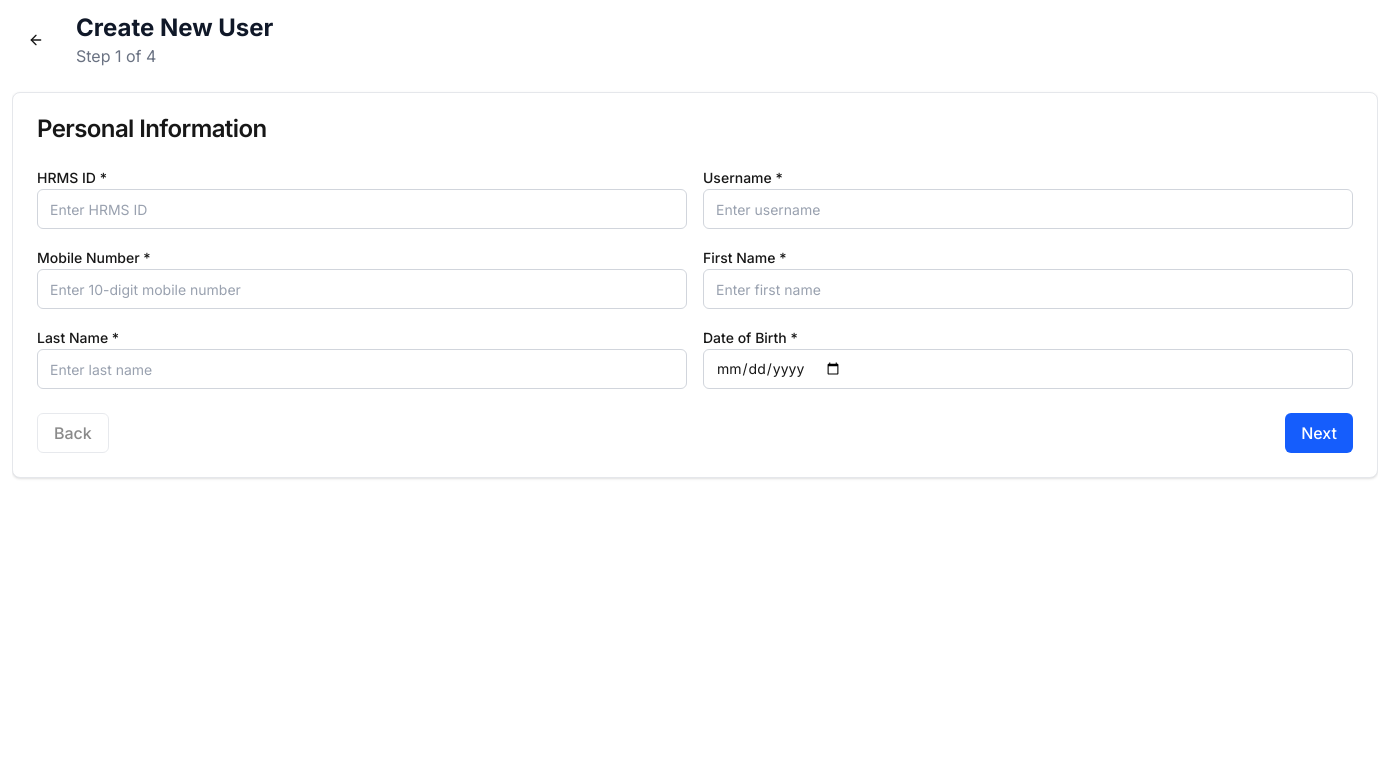
User creation form › shows inline error for invalid mobile number
Type "123456" into the field labelled "HRMS ID *" at (362, 209), box [37,189,687,229]
Type "john.doe" into the field labelled "Username *" at (1028, 209), box [703,189,1353,229]
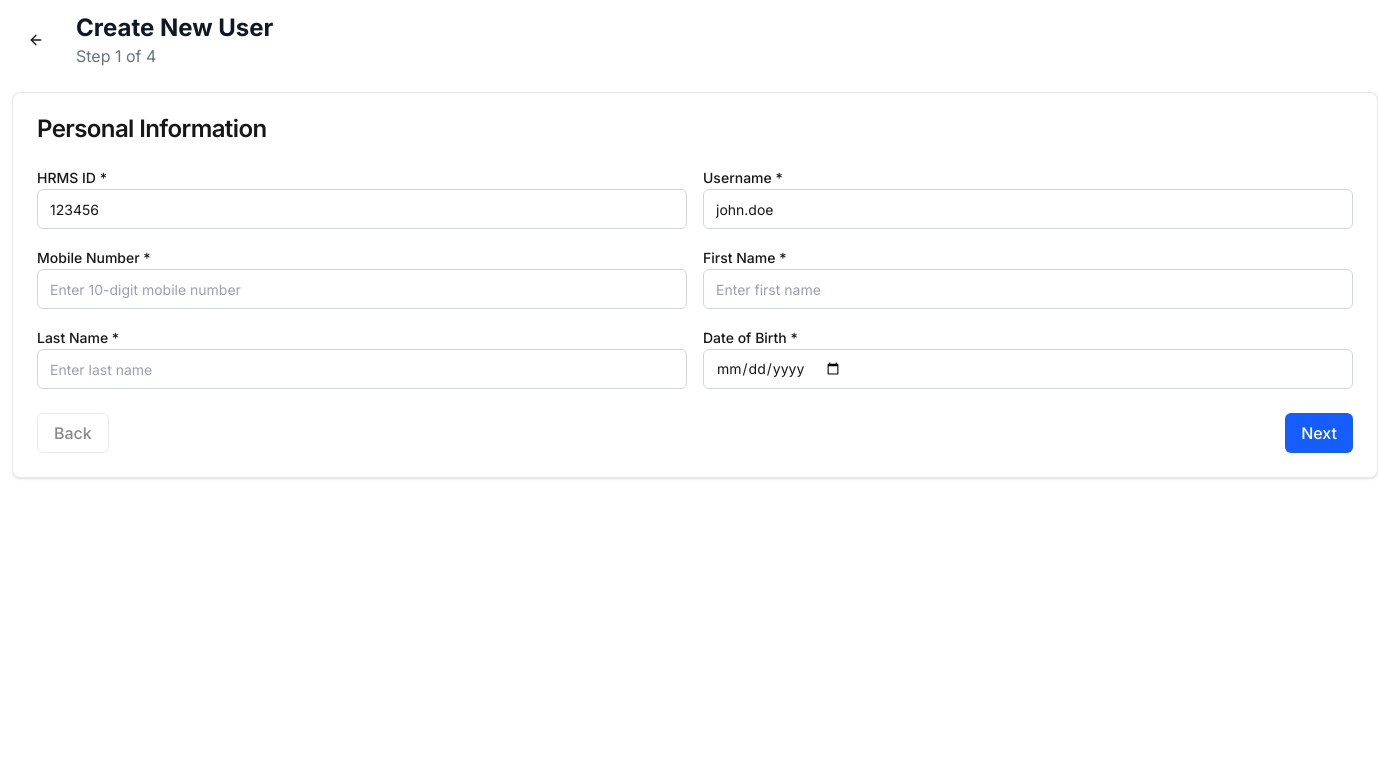
Type "987465860" into the field labelled "Mobile Number *" at (362, 289), box [37,269,687,309]
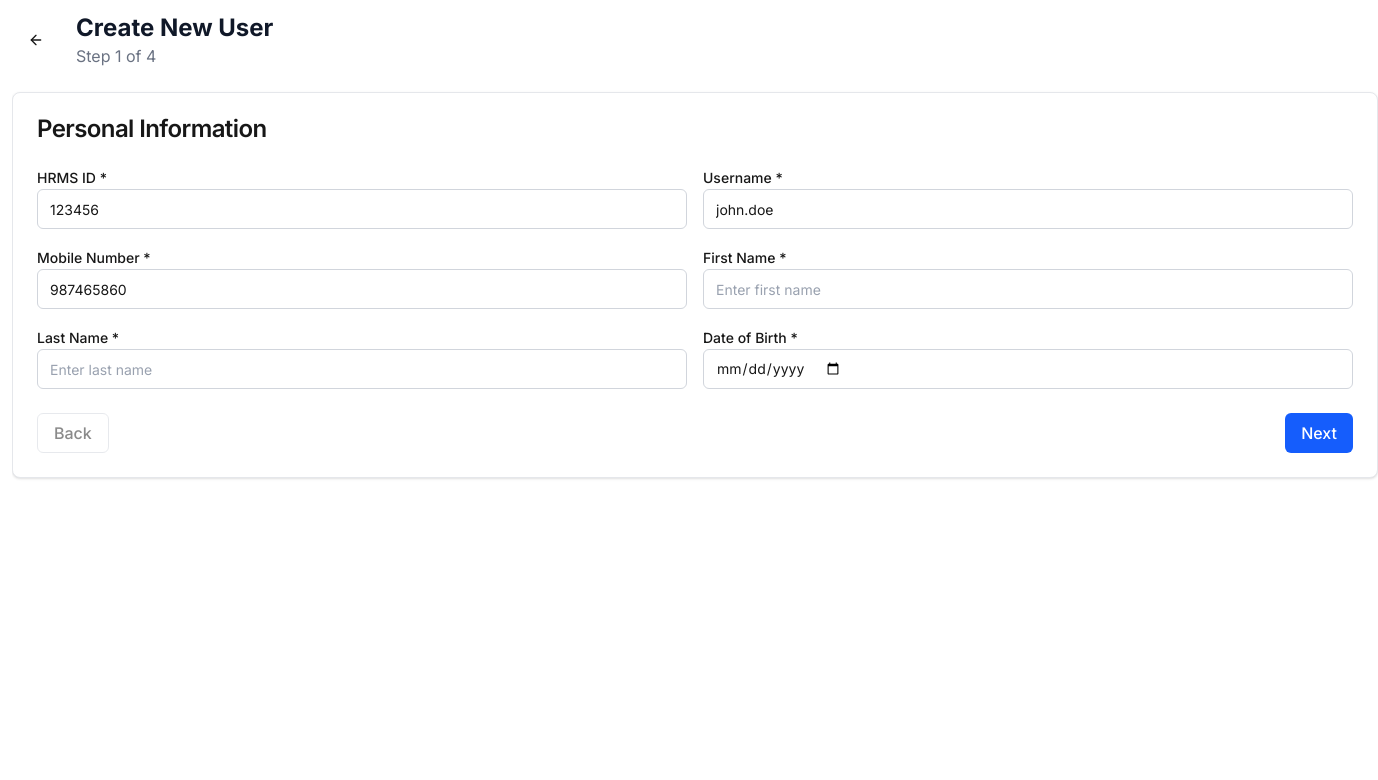
Type "John" into the field labelled "First Name *" at (1028, 289), box [703,269,1353,309]
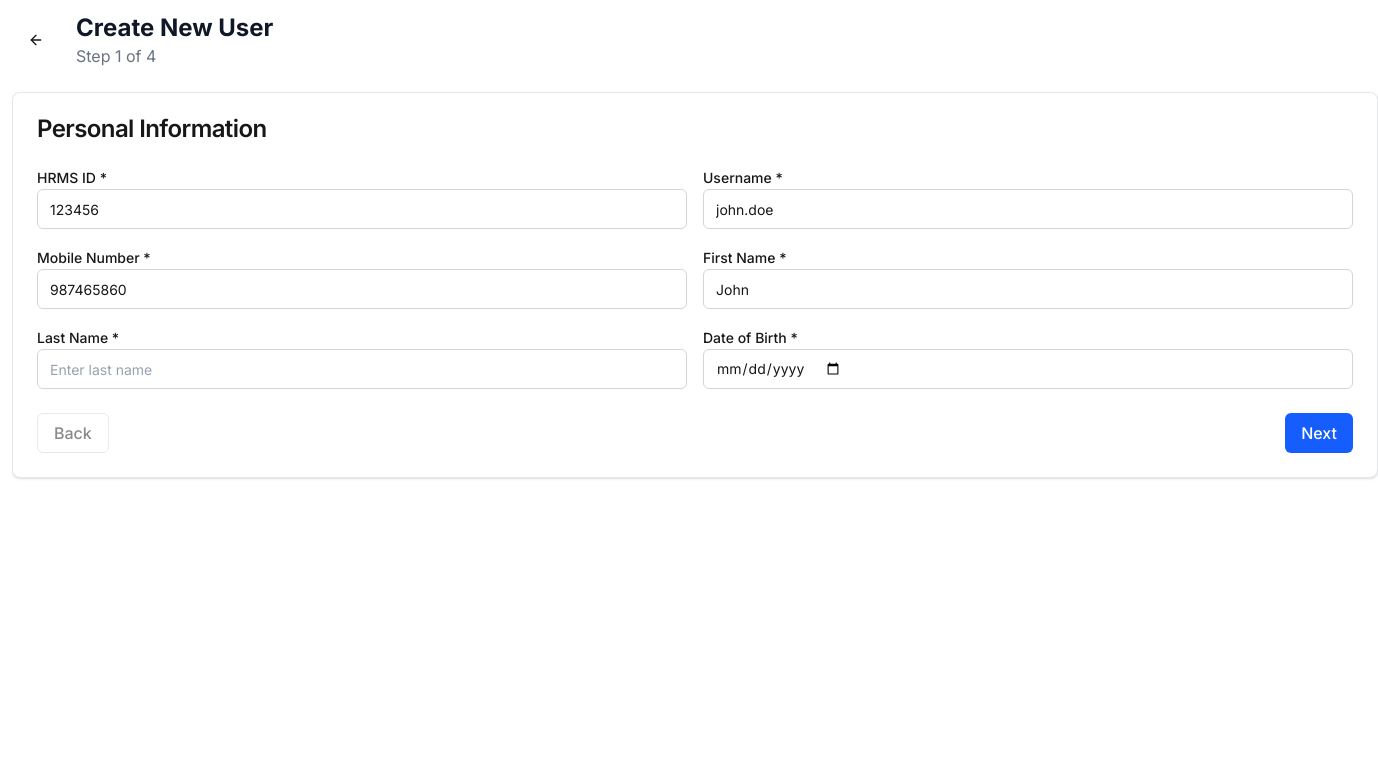
Type "Doe" into the field labelled "Last Name *" at (362, 369), box [37,349,687,389]
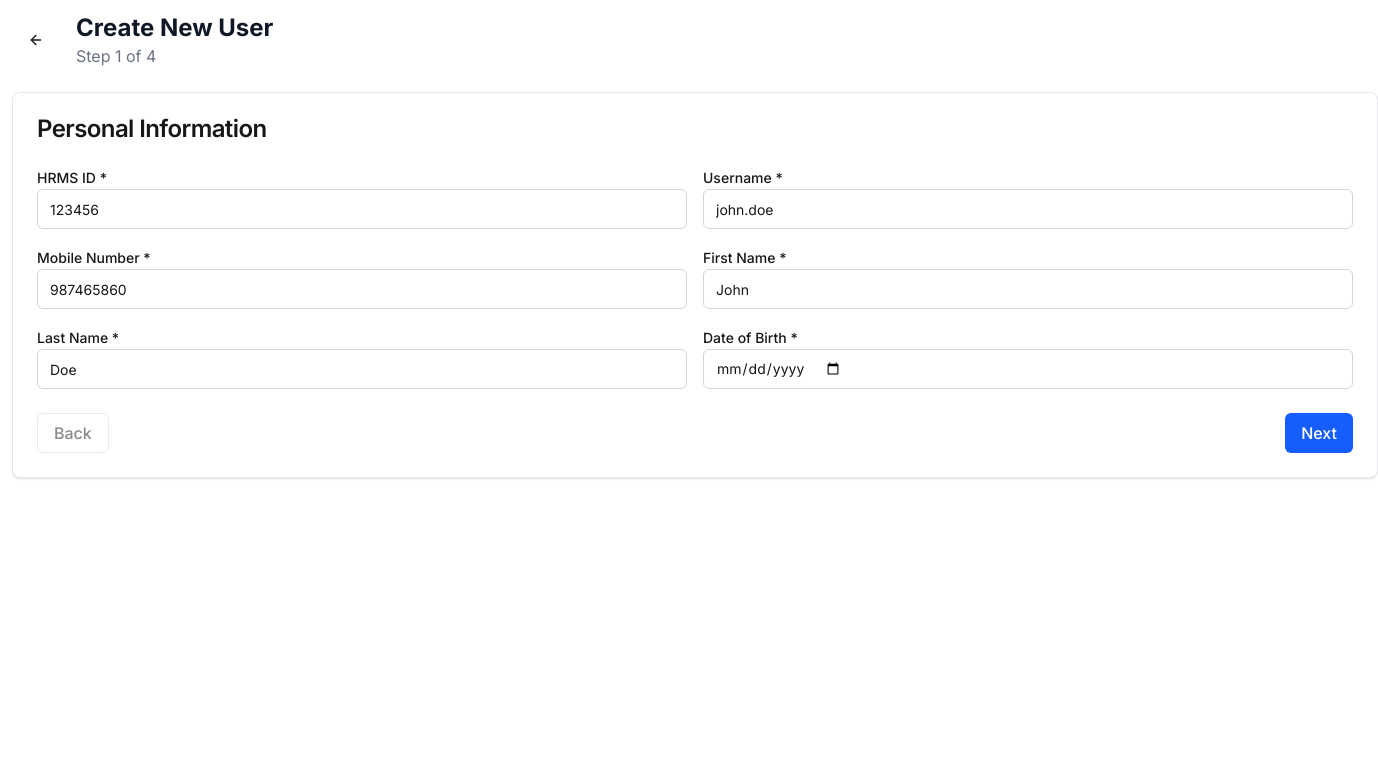
Type "1990-01-01" into the date field labelled "Date of Birth *" at (1028, 369), box [703,349,1353,389]
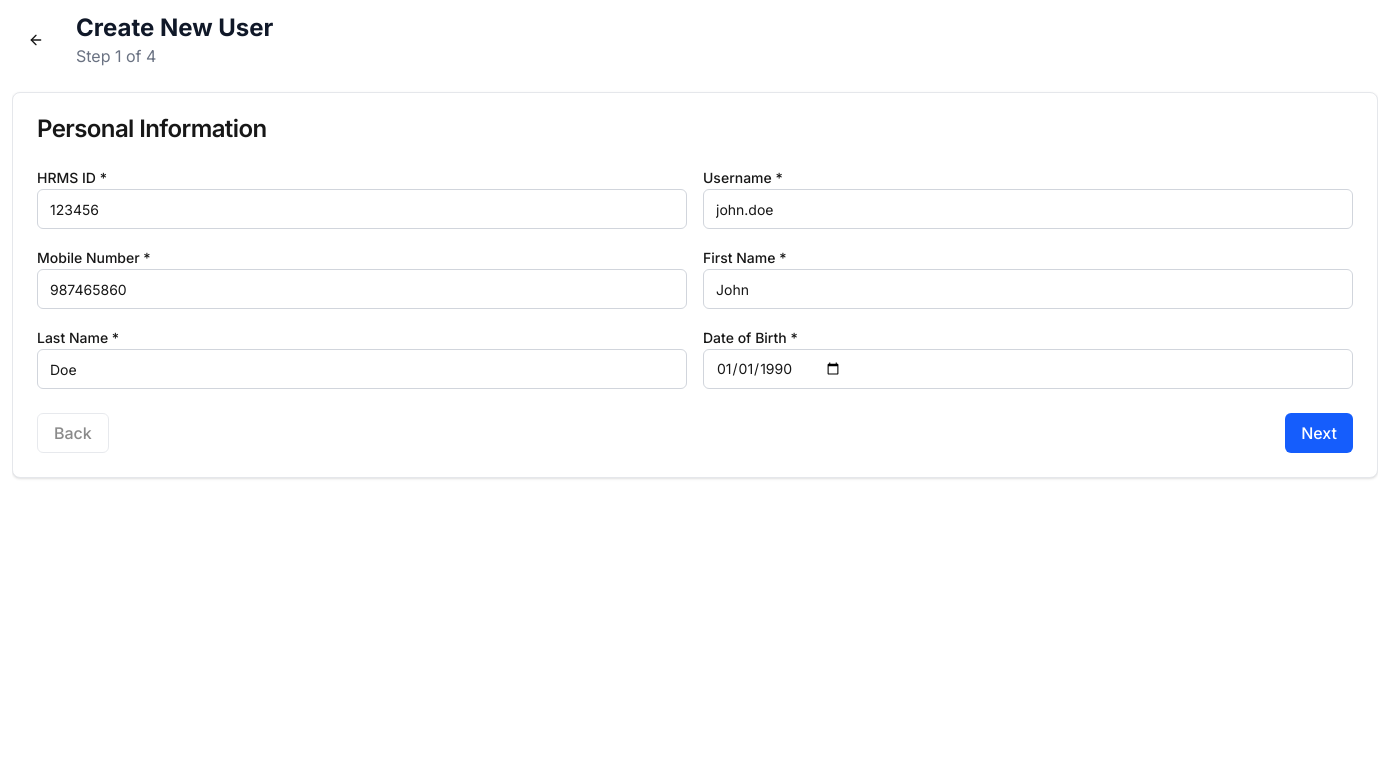
Click the button "Next" at (1319, 433), box [1285,413,1353,453]
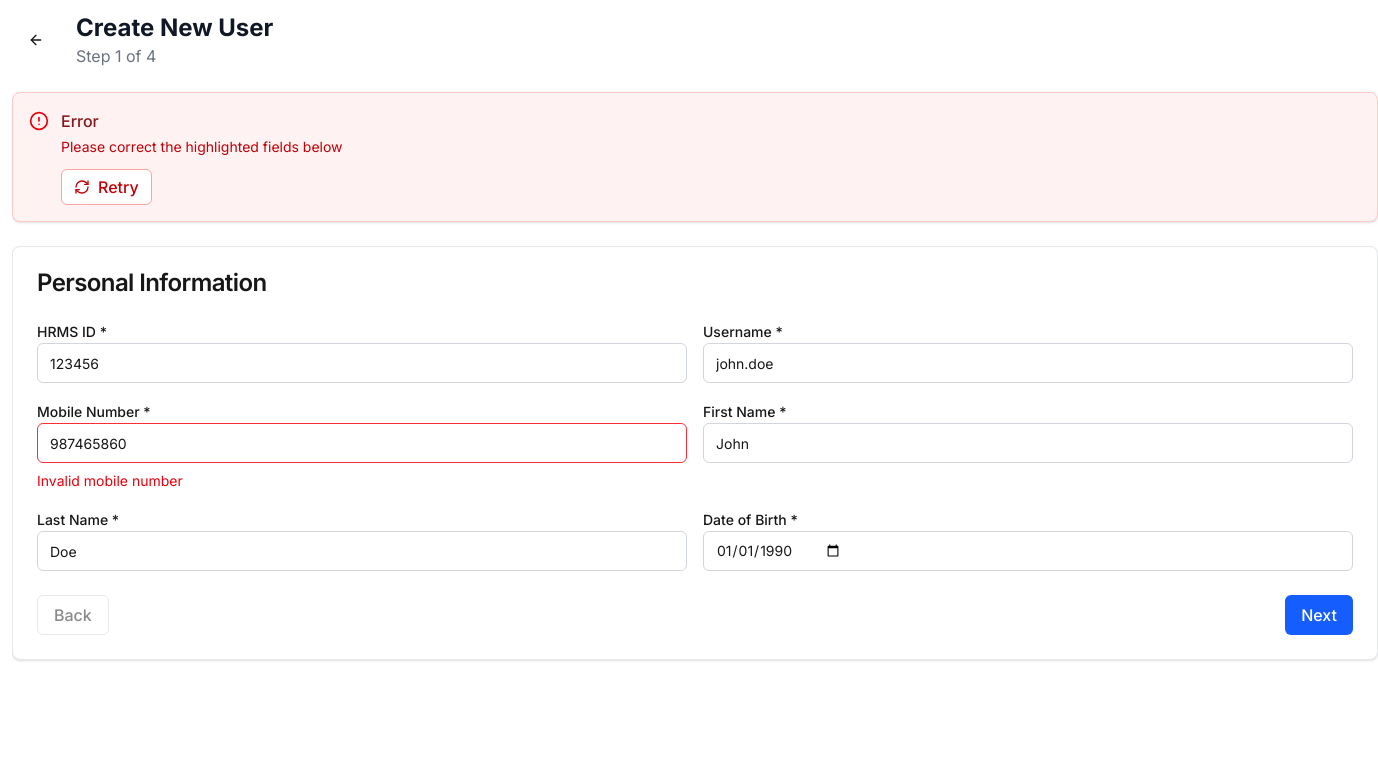
Check: the element labelled "Mobile Number * Invalid mobile number" is shown, box [37,399,687,491]
